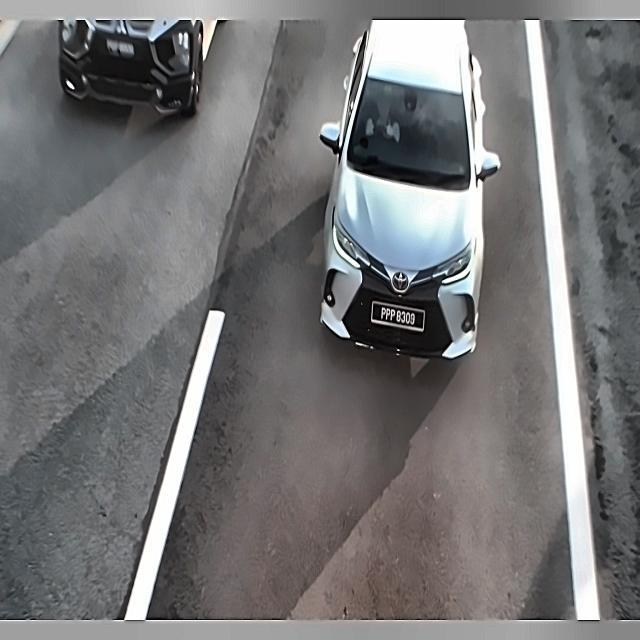car: (364, 298, 433, 339), (103, 32, 142, 71)
